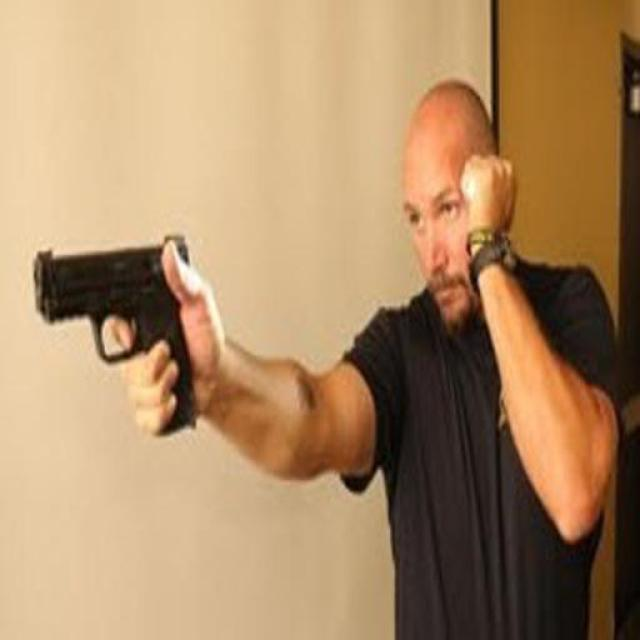pistol: (21, 217, 209, 455)
